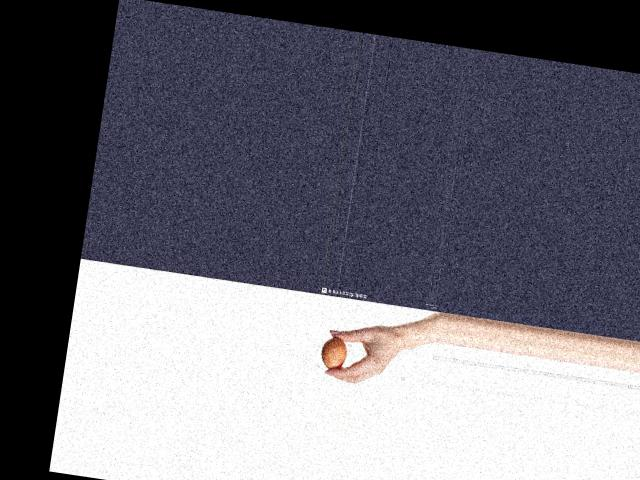egg: (320, 336, 349, 370)
